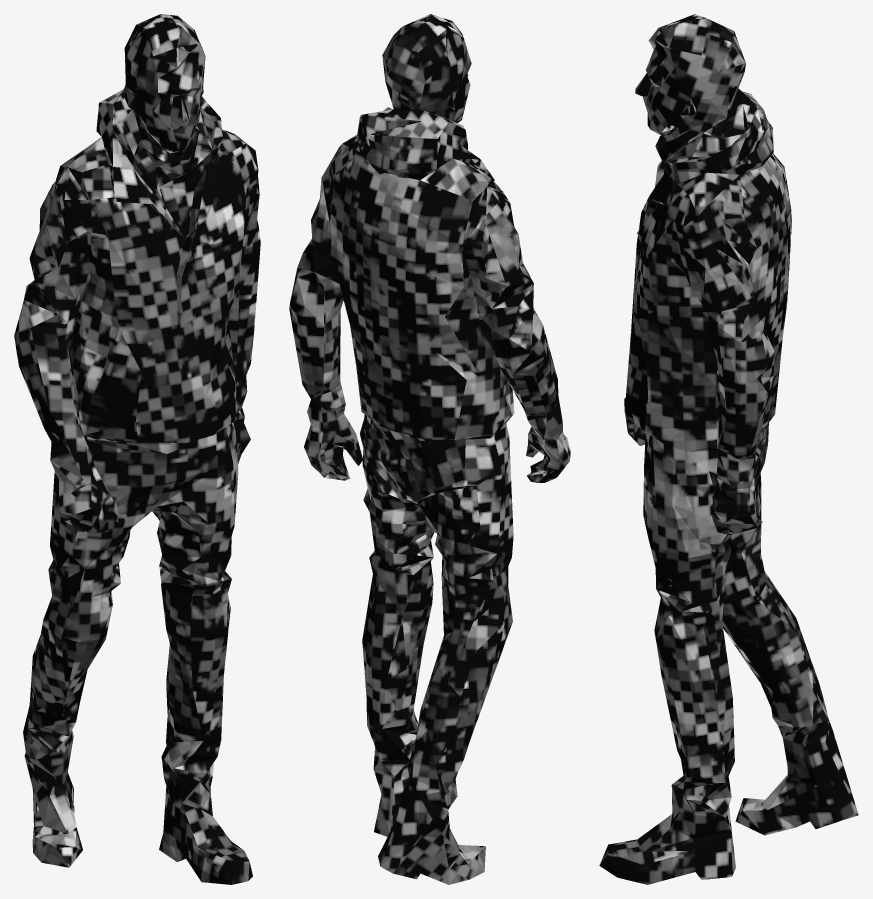
File: people.glb
The picture shows the model from 3 angles, left to right: view 1: azimuth 30°, elevation 25°; view 2: azimuth 150°, elevation 25°; view 3: azimuth 270°, elevation 25°; orthographic projection. The views are drawn at different scales.
Parts seen in each view (by area): view 1: lowpolyPeopleCasual.607; view 2: lowpolyPeopleCasual.607; view 3: lowpolyPeopleCasual.607.
Part boxes in pixels (x1,y1,x2,y2): lowpolyPeopleCasual.607: [14, 14, 260, 884]; lowpolyPeopleCasual.607: [289, 14, 570, 884]; lowpolyPeopleCasual.607: [599, 14, 858, 884].
Bounding box in the file's own units: 0.5544 × 1.79 × 0.4994.
1 material, 1 textured.
